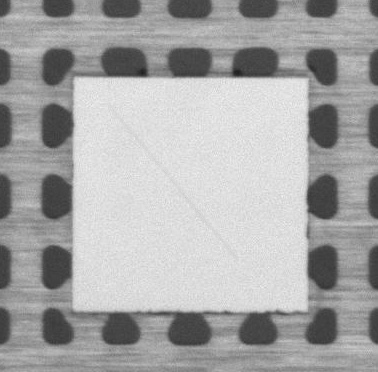DIE_CRACK: (111, 103, 241, 255)
